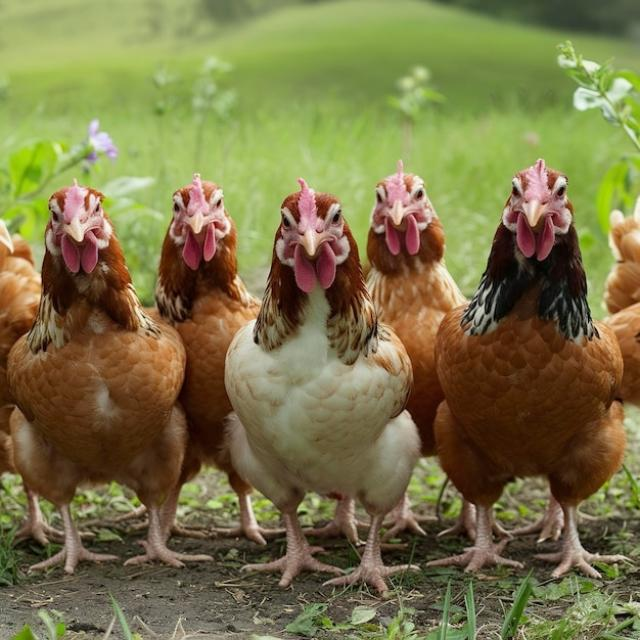Chicken: (224, 175, 428, 598), (438, 154, 635, 583), (8, 178, 192, 571), (157, 169, 278, 553), (355, 150, 483, 461)
